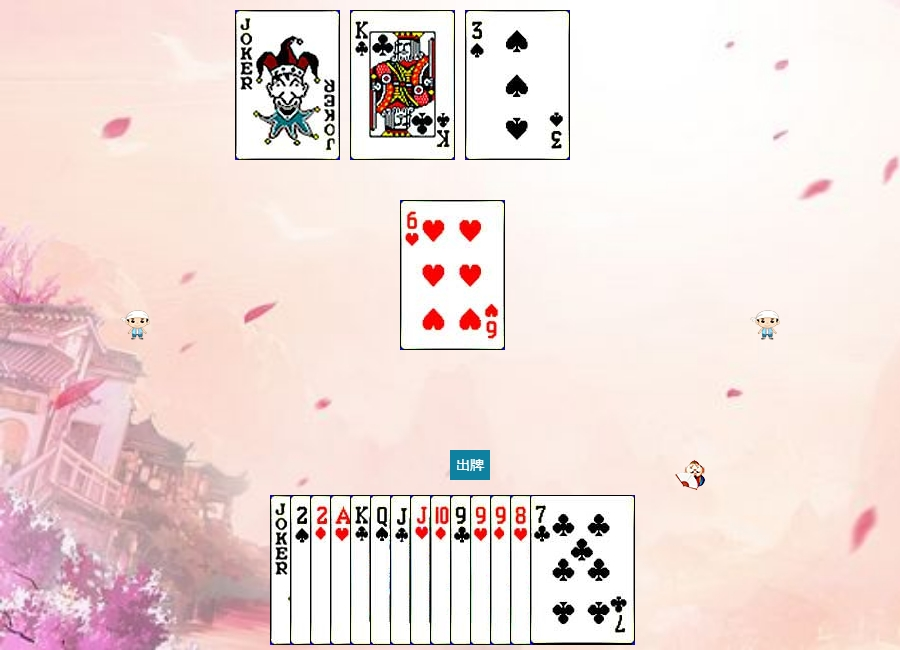10~1: (430, 495, 535, 645)
11~2: (390, 495, 495, 645)
11~3: (410, 495, 515, 645)
12~4: (370, 495, 475, 645)
13~2: (350, 10, 455, 160), (350, 495, 455, 645)
14~3: (330, 495, 435, 645)
15~1: (310, 495, 415, 645)
15~4: (290, 495, 395, 645)
17~3: (235, 10, 340, 160), (270, 495, 375, 645)
3~4: (465, 10, 570, 160)
6~3: (400, 200, 505, 350)
7~2: (530, 495, 635, 645)
8~3: (510, 495, 615, 645)
9~1: (490, 495, 595, 645)
9~2: (450, 495, 555, 645)
9~3: (470, 495, 575, 645)
